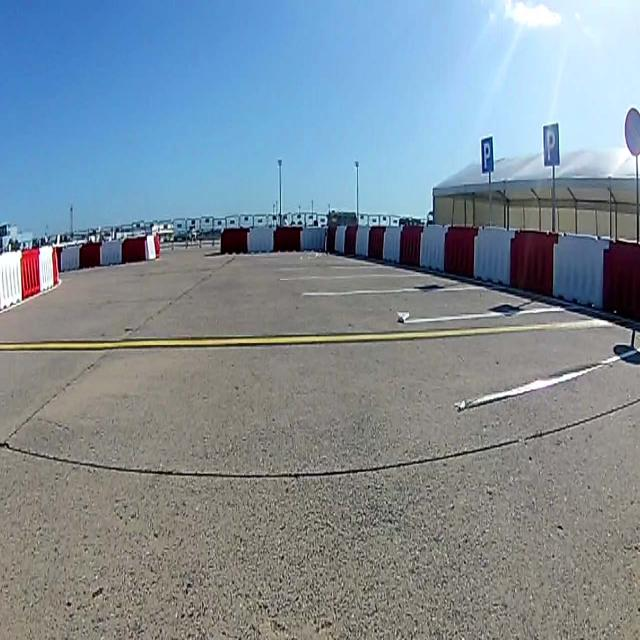park: (542, 123, 560, 166), (480, 136, 494, 173)
parkyasak: (624, 108, 640, 156)
